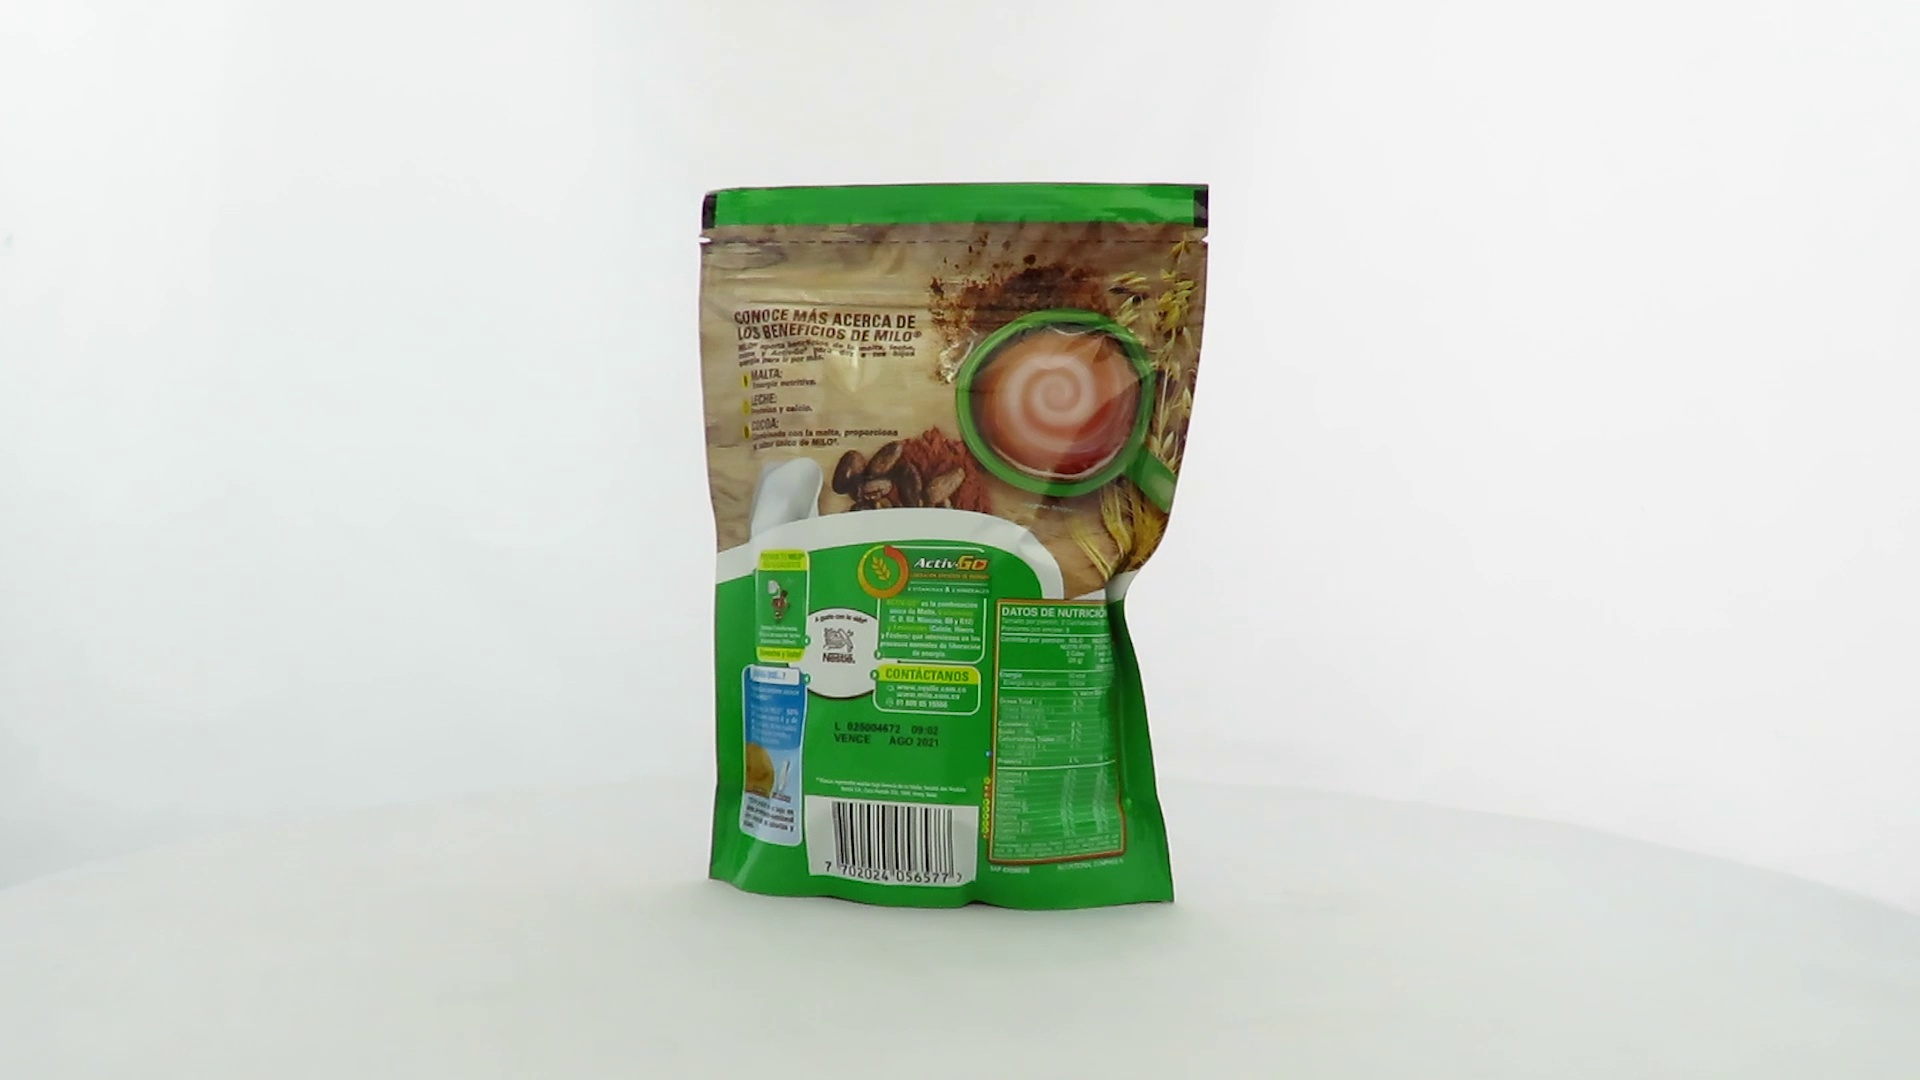COL0170205DYP20000: (694, 177, 1215, 916)
